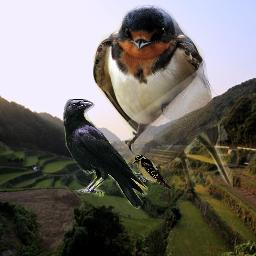Crow: (63, 99, 148, 209)
Swallow: (93, 5, 233, 189)
Woodpecker: (131, 153, 171, 190)
